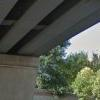Bridge: (6, 5, 70, 90)
